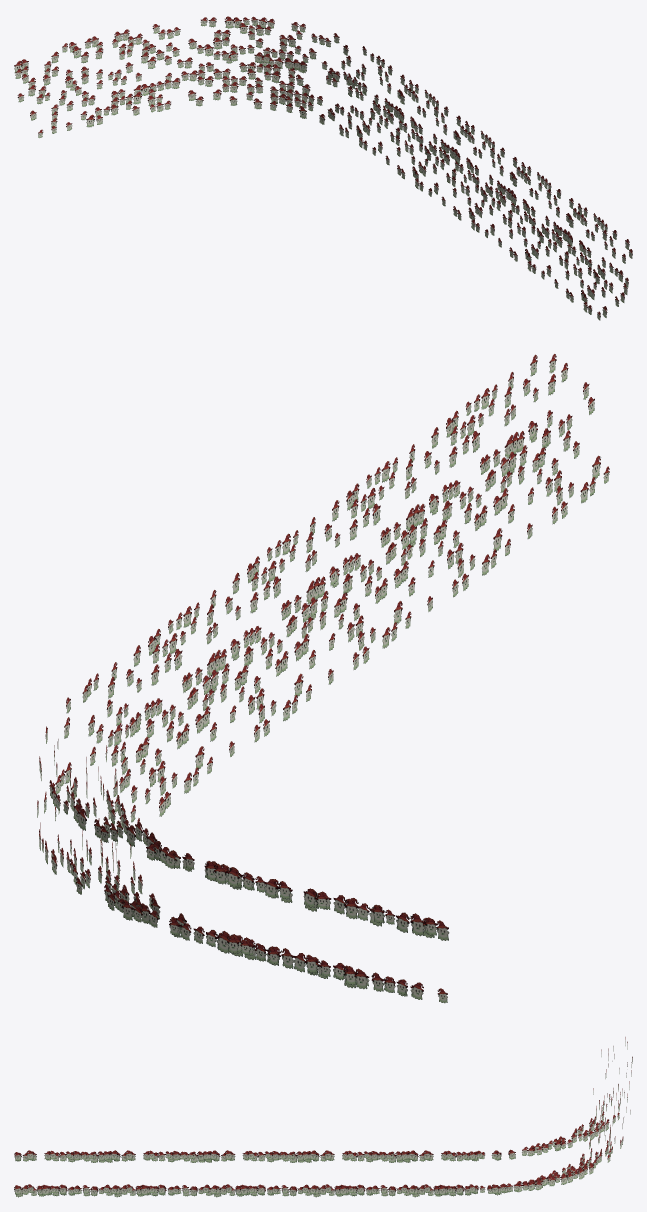
The model's file is fansZ2_New.fbx.
3 views of the same model, one above another, from view 1: azimuth 30°, elevation 25°; view 2: azimuth 150°, elevation 25°; view 3: azimuth 270°, elevation 25° (orthographic). The views are drawn at different scales.
Parts seen in each view (by area): view 1: fansZ2; view 2: fansZ2; view 3: fansZ2.
Boxes of the visible parts, x1,y1,x2,y2 form: fansZ2: [14, 16, 632, 320]; fansZ2: [37, 354, 609, 1003]; fansZ2: [14, 1037, 632, 1197].
Size of the model in its own units: 5966 by 1496 by 12871.
